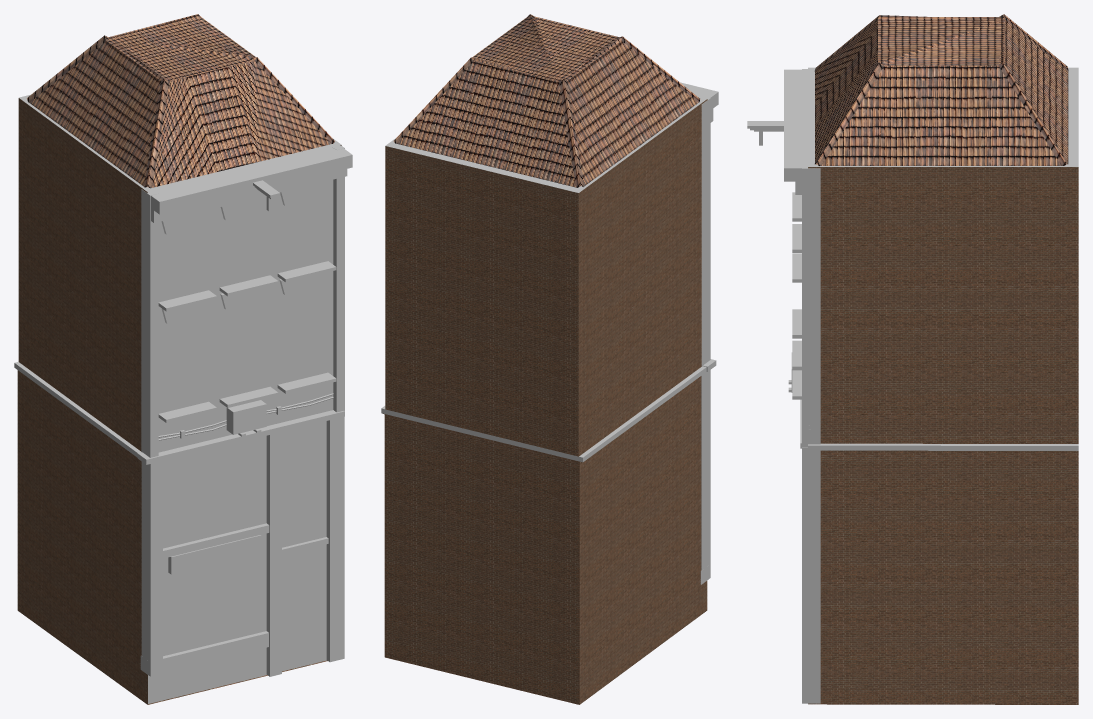
Rendered from ams_house5.fbx.
3 renders of one model, left to right at view 1: azimuth 30°, elevation 25°; view 2: azimuth 150°, elevation 25°; view 3: azimuth 270°, elevation 25°, orthographic. The views are drawn at different scales.
Visible parts, largest first — view 1: Default_Layer; view 2: Default_Layer; view 3: Default_Layer.
Boxes of the visible parts, x1,y1,x2,y2 form: Default_Layer: [14, 14, 352, 704]; Default_Layer: [381, 14, 718, 704]; Default_Layer: [747, 14, 1078, 704].
Bounding box in the file's own units: 449 × 1246 × 606.
